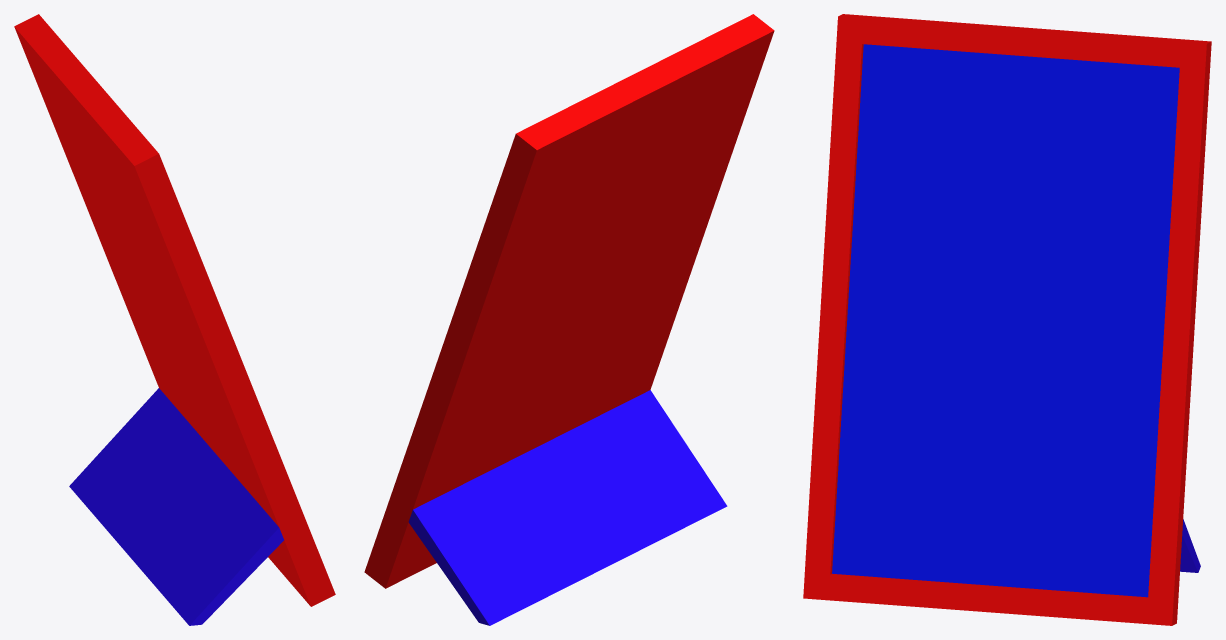
File: PhotoFrame.fbx
3 renders of one model, left to right at view 1: azimuth 30°, elevation 25°; view 2: azimuth 150°, elevation 25°; view 3: azimuth 270°, elevation 25°, orthographic. The views are drawn at different scales.
Visible parts, largest first — view 1: PhotoFrame; view 2: PhotoFrame; view 3: PhotoFrame.
Boxes of the visible parts, x1=… form: PhotoFrame: x1=14, y1=14, x2=335, y2=625; PhotoFrame: x1=364, y1=14, x2=774, y2=625; PhotoFrame: x1=803, y1=14, x2=1211, y2=625.
Size of the model in its own units: 8.63 by 16.72 by 12.16.
